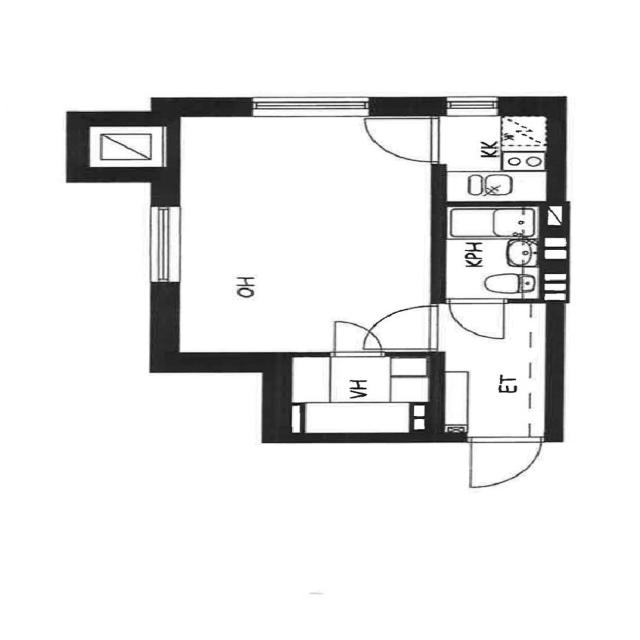door: (462, 434, 544, 490), (364, 114, 440, 165), (440, 297, 514, 343), (368, 302, 438, 348), (325, 317, 388, 355)
window: (142, 202, 189, 289), (242, 92, 376, 119), (440, 93, 506, 116)
zone: (173, 113, 434, 352), (440, 302, 544, 436), (285, 354, 436, 437), (436, 111, 552, 201), (439, 206, 541, 302)
